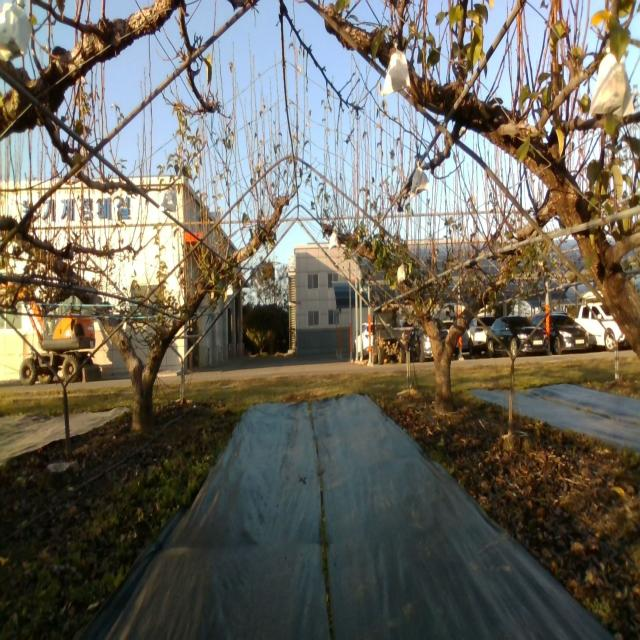pearbags: (590, 52, 636, 119), (0, 0, 31, 63), (381, 41, 410, 98), (411, 160, 430, 200), (158, 185, 178, 213), (329, 232, 340, 250)
